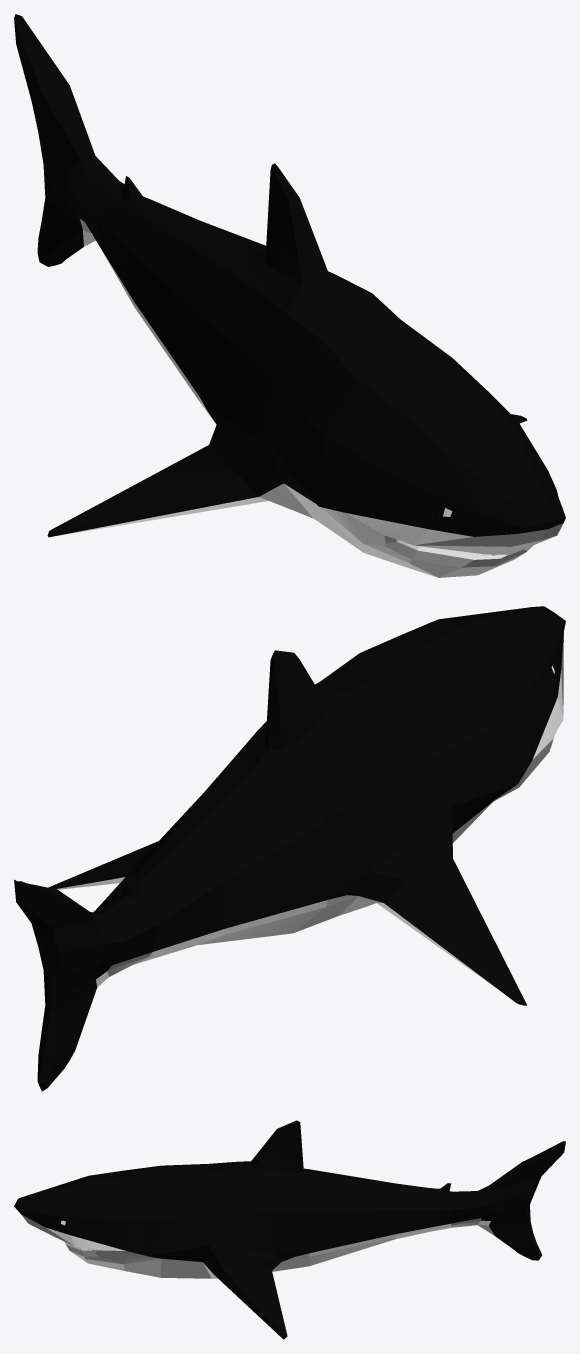
File: Shark-2.fbx
The picture shows the model from 3 angles, top to bottom: view 1: azimuth 30°, elevation 25°; view 2: azimuth 150°, elevation 25°; view 3: azimuth 270°, elevation 25°; orthographic projection. The views are drawn at different scales.
Parts seen in each view (by area): view 1: Shark-02; view 2: Shark-02; view 3: Shark-02.
Boxes of the visible parts, <box> form: Shark-02: <box>14,14,565,577</box>; Shark-02: <box>14,606,565,1091</box>; Shark-02: <box>14,1120,565,1339</box>.
Size of the model in its own units: 3.61 by 2.21 by 6.96.
